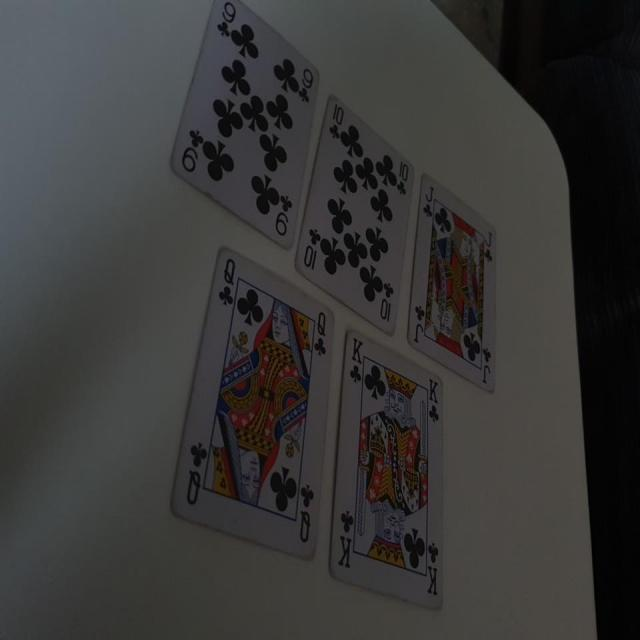10 Trefoils: (294, 93, 418, 338)
9 Trefoils: (168, 1, 321, 252)
J Trefoils: (404, 171, 497, 393)
K Trefoils: (328, 327, 450, 612)
Q Trefoils: (168, 244, 333, 561)
